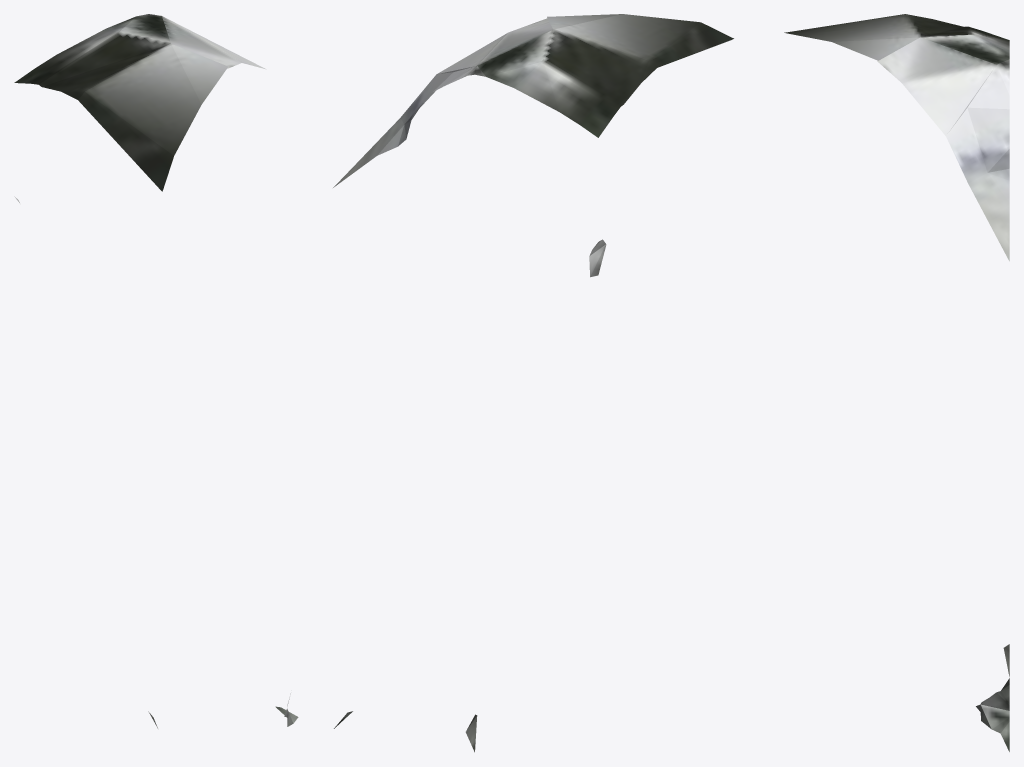
The picture shows the model from 3 angles, left to right: view 1: azimuth 30°, elevation 25°; view 2: azimuth 150°, elevation 25°; view 3: azimuth 270°, elevation 25°; orthographic projection. The views are drawn at different scales.
Size of the model in its own units: 1.76 by 4.46 by 1.56.
Materials: 1 (1 with a texture image).
